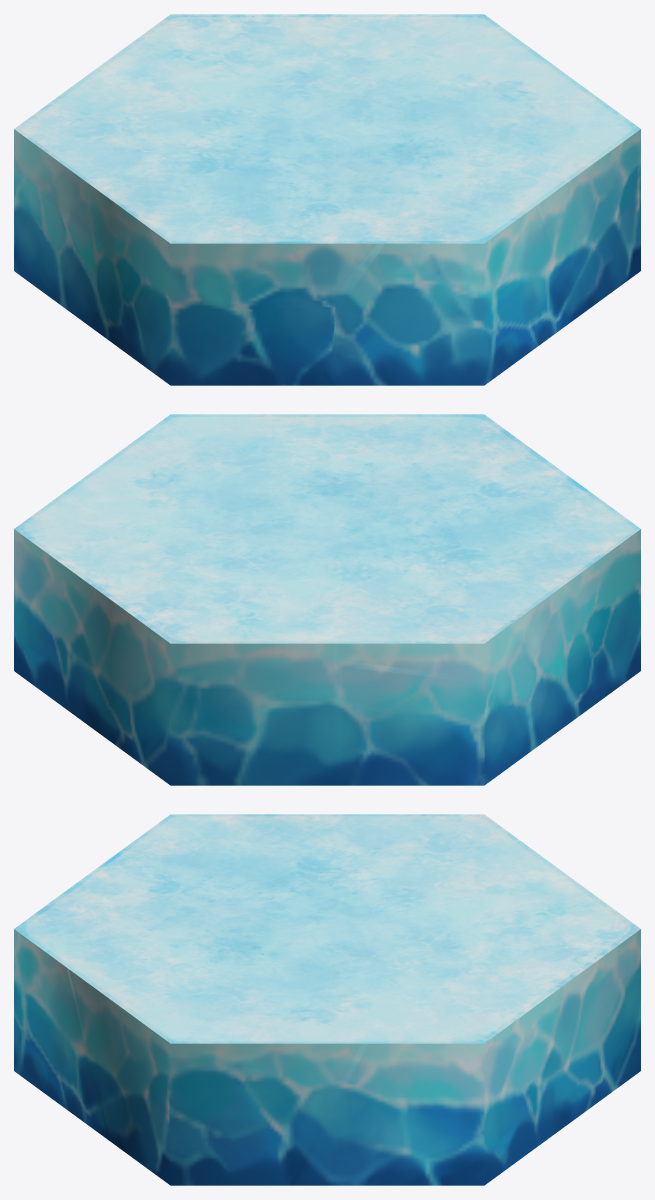
Rendered from FracturedIce.fbx.
The picture shows the model from 3 angles, top to bottom: view 1: azimuth 30°, elevation 25°; view 2: azimuth 150°, elevation 25°; view 3: azimuth 270°, elevation 25°; orthographic projection.
Parts seen in each view (by area): view 1: Hexagon_IceLand_01_001_cell.004, Hexagon_IceLand_01_001_cell.002, Hexagon_IceLand_01_001_cell.001, Hexagon_IceLand_01_001_cell.003, Hexagon_IceLand_01_001_cell, Hexagon_IceLand_01_001; view 2: Hexagon_IceLand_01_001_cell.003, Hexagon_IceLand_01_001_cell.004, Hexagon_IceLand_01_001_cell, Hexagon_IceLand_01_001_cell.001, Hexagon_IceLand_01_001_cell.002, Hexagon_IceLand_01_001; view 3: Hexagon_IceLand_01_001_cell.003, Hexagon_IceLand_01_001_cell.001, Hexagon_IceLand_01_001_cell.004, Hexagon_IceLand_01_001_cell.002, Hexagon_IceLand_01_001.
Boxes of the visible parts, left/top/right/bottom form: Hexagon_IceLand_01_001_cell.004: left=14, top=75, right=377, bottom=306; Hexagon_IceLand_01_001_cell.002: left=335, top=154, right=578, bottom=385; Hexagon_IceLand_01_001_cell.001: left=307, top=59, right=640, bottom=314; Hexagon_IceLand_01_001_cell.003: left=91, top=14, right=541, bottom=117; Hexagon_IceLand_01_001_cell: left=14, top=169, right=335, bottom=385; Hexagon_IceLand_01_001: left=14, top=57, right=580, bottom=385; Hexagon_IceLand_01_001_cell.003: left=14, top=486, right=335, bottom=785; Hexagon_IceLand_01_001_cell.004: left=322, top=453, right=640, bottom=678; Hexagon_IceLand_01_001_cell: left=342, top=597, right=640, bottom=785; Hexagon_IceLand_01_001_cell.001: left=75, top=414, right=374, bottom=541; Hexagon_IceLand_01_001_cell.002: left=363, top=414, right=533, bottom=505; Hexagon_IceLand_01_001: left=72, top=414, right=640, bottom=785; Hexagon_IceLand_01_001_cell.003: left=294, top=871, right=640, bottom=1185; Hexagon_IceLand_01_001_cell.001: left=69, top=926, right=361, bottom=1185; Hexagon_IceLand_01_001_cell.004: left=67, top=814, right=557, bottom=925; Hexagon_IceLand_01_001_cell.002: left=14, top=892, right=260, bottom=1139; Hexagon_IceLand_01_001: left=64, top=816, right=560, bottom=1185.
Size of the model in its own units: 17.6 by 5.08 by 20.32.
